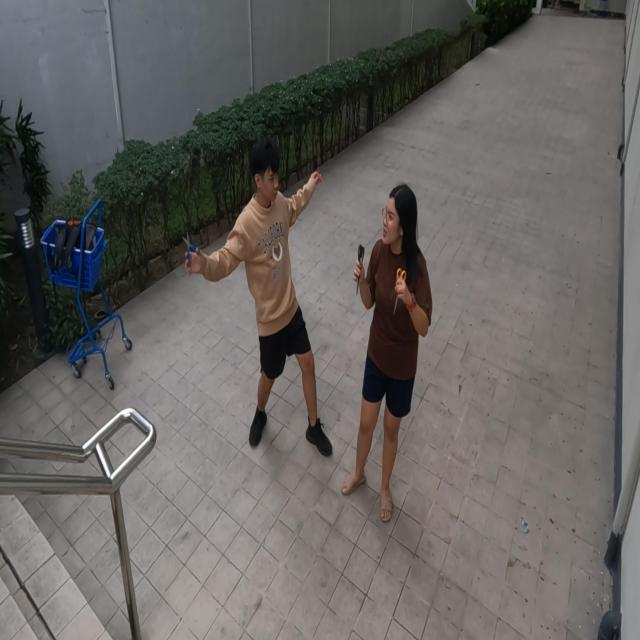scissor: (392, 266, 408, 318), (180, 231, 202, 268), (354, 242, 366, 298)
